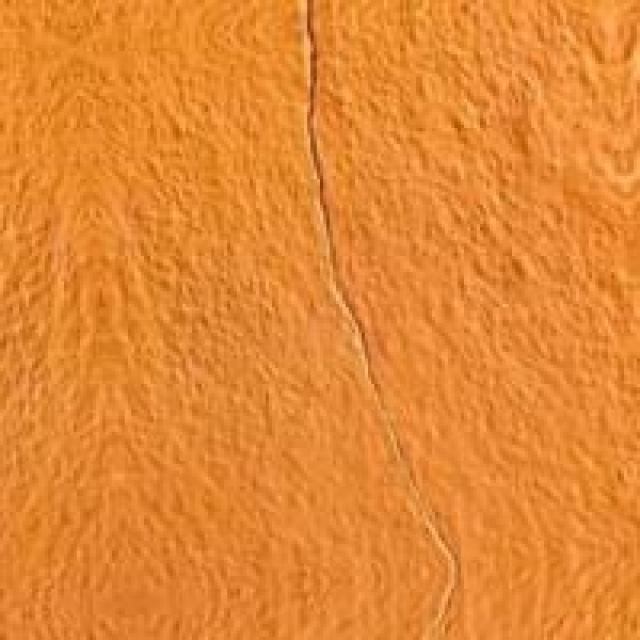crack: (260, 3, 438, 390)
